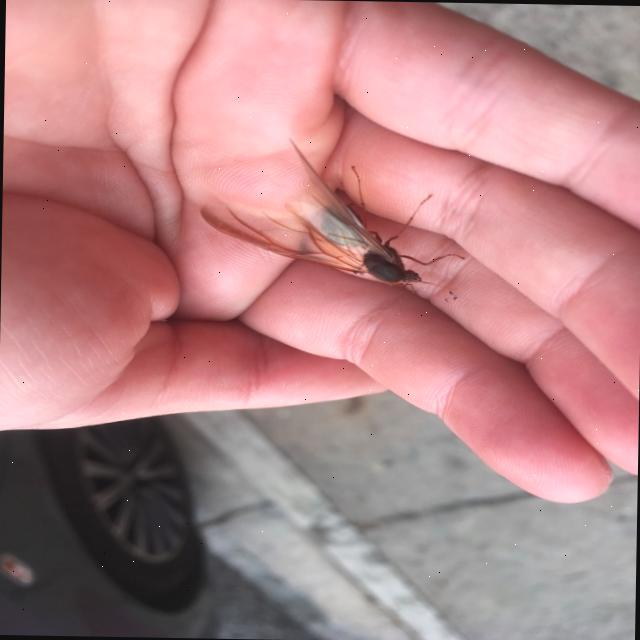Alive-Male-Alate: (198, 134, 467, 316)
